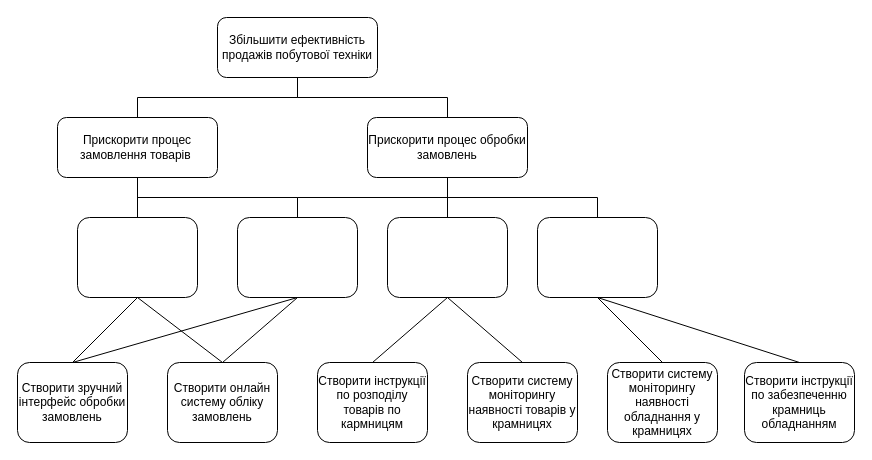
This 872x460 diagram has some shape labels left out. Each missing label, with the centre of its shape:
"Забезпечити постійну наявність необхідного обладнання в крамницях" goes at point (597, 257).
"Забезпечити постійну наявність усіх необхідних товарів у кармниці" goes at point (447, 257).
"Полегшити процес ствоерння замовлення клієнтом" goes at point (137, 257).
"Прискорити доступ до документів пов'язаних із замовленнями" goes at point (297, 257).
